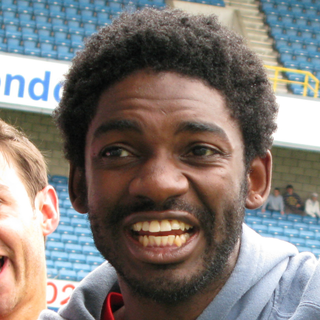eye: (180, 139, 226, 164), (98, 142, 143, 165)
